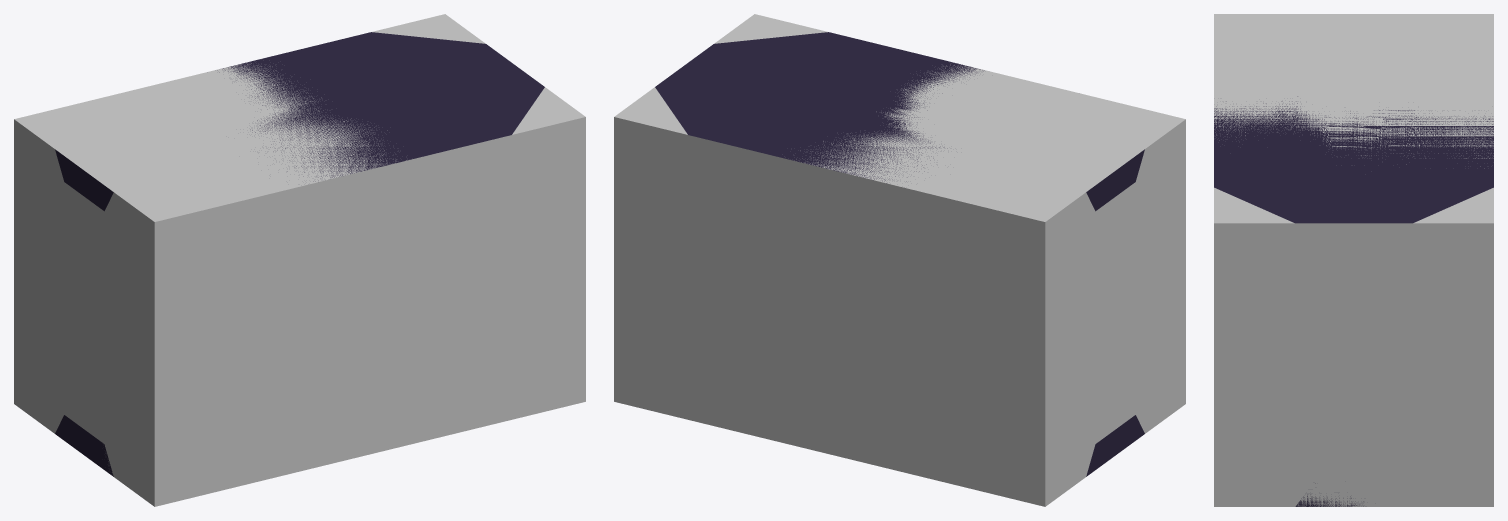
Rendered from SM_Skyscraper_03.fbx.
3 views of the same model, side by side, from view 1: azimuth 30°, elevation 25°; view 2: azimuth 150°, elevation 25°; view 3: azimuth 270°, elevation 25° (orthographic).
Parts seen in each view (by area): view 1: SM_Skyscraper_03_ConvexHulls, SM_Skyscraper_03; view 2: SM_Skyscraper_03_ConvexHulls, SM_Skyscraper_03; view 3: SM_Skyscraper_03_ConvexHulls, SM_Skyscraper_03.
Boxes of the visible parts, x1,y1,x2,y2 form: SM_Skyscraper_03_ConvexHulls: (14, 14, 585, 506); SM_Skyscraper_03: (55, 32, 544, 476); SM_Skyscraper_03_ConvexHulls: (614, 14, 1185, 506); SM_Skyscraper_03: (655, 32, 1144, 476); SM_Skyscraper_03_ConvexHulls: (1214, 14, 1493, 506); SM_Skyscraper_03: (1214, 96, 1493, 506).
Bounding box in the file's own units: 1584 × 895 × 1000.
Materials: 2 (1 with a texture image).
